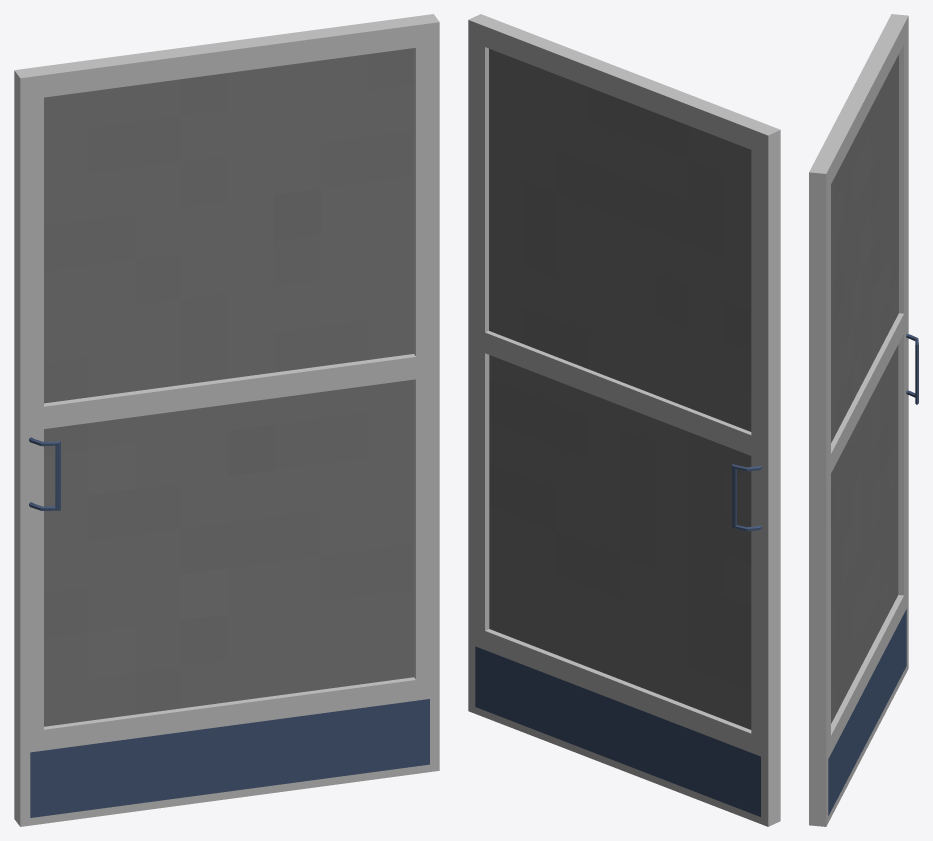
Rendered from SW_corridor__R_lobby_R_Aula_Ovi_2_Ikkunaa_001.FBX.
3 renders of one model, left to right at view 1: azimuth 30°, elevation 25°; view 2: azimuth 150°, elevation 25°; view 3: azimuth 270°, elevation 25°, orthographic. The views are drawn at different scales.
Parts seen in each view (by area): view 1: SW_corridor__R_lobby_R_Aula_Ovi_2_Ikkunaa_001; view 2: SW_corridor__R_lobby_R_Aula_Ovi_2_Ikkunaa_001; view 3: SW_corridor__R_lobby_R_Aula_Ovi_2_Ikkunaa_001.
Boxes of the visible parts, x1,y1,x2,y2 form: SW_corridor__R_lobby_R_Aula_Ovi_2_Ikkunaa_001: [14, 14, 439, 826]; SW_corridor__R_lobby_R_Aula_Ovi_2_Ikkunaa_001: [468, 14, 780, 826]; SW_corridor__R_lobby_R_Aula_Ovi_2_Ikkunaa_001: [809, 14, 918, 826].
Bounding box in the file's own units: 107 × 31.12 × 204.
